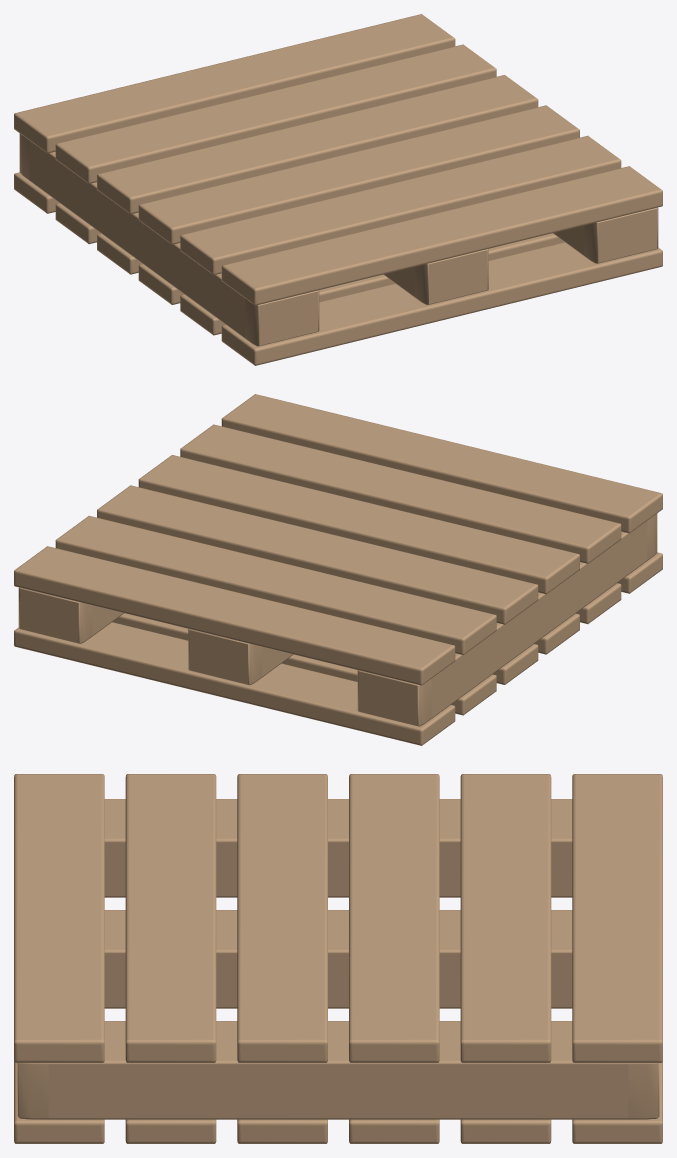
The model's file is WoodenSkid.fbx.
3 views of the same model, one above another, from view 1: azimuth 30°, elevation 25°; view 2: azimuth 150°, elevation 25°; view 3: azimuth 270°, elevation 25° (orthographic). The views are drawn at different scales.
Visible parts, largest first — view 1: WoodenSkid.001, MiddleStuds; view 2: WoodenSkid.001, MiddleStuds; view 3: WoodenSkid.001, MiddleStuds.
Part boxes in pixels (box(x1,y1,x2,y2)): WoodenSkid.001: box(14, 14, 662, 365); MiddleStuds: box(19, 133, 658, 346); WoodenSkid.001: box(14, 394, 662, 745); MiddleStuds: box(18, 513, 657, 726); WoodenSkid.001: box(14, 774, 662, 1143); MiddleStuds: box(17, 799, 659, 1119).
Size of the model in its own units: 197 by 35.51 by 202.
